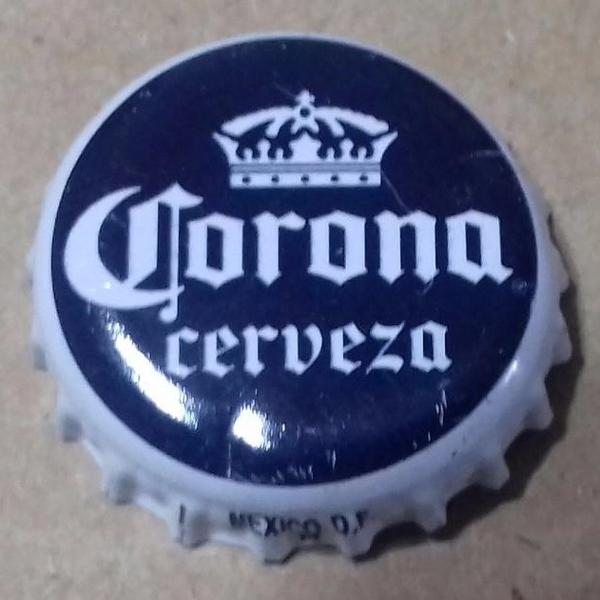corona: (19, 24, 581, 571)
